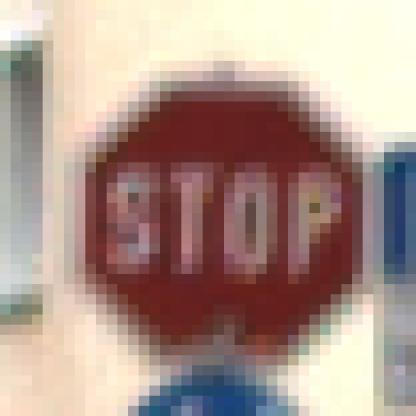stop: (79, 76, 361, 364)
